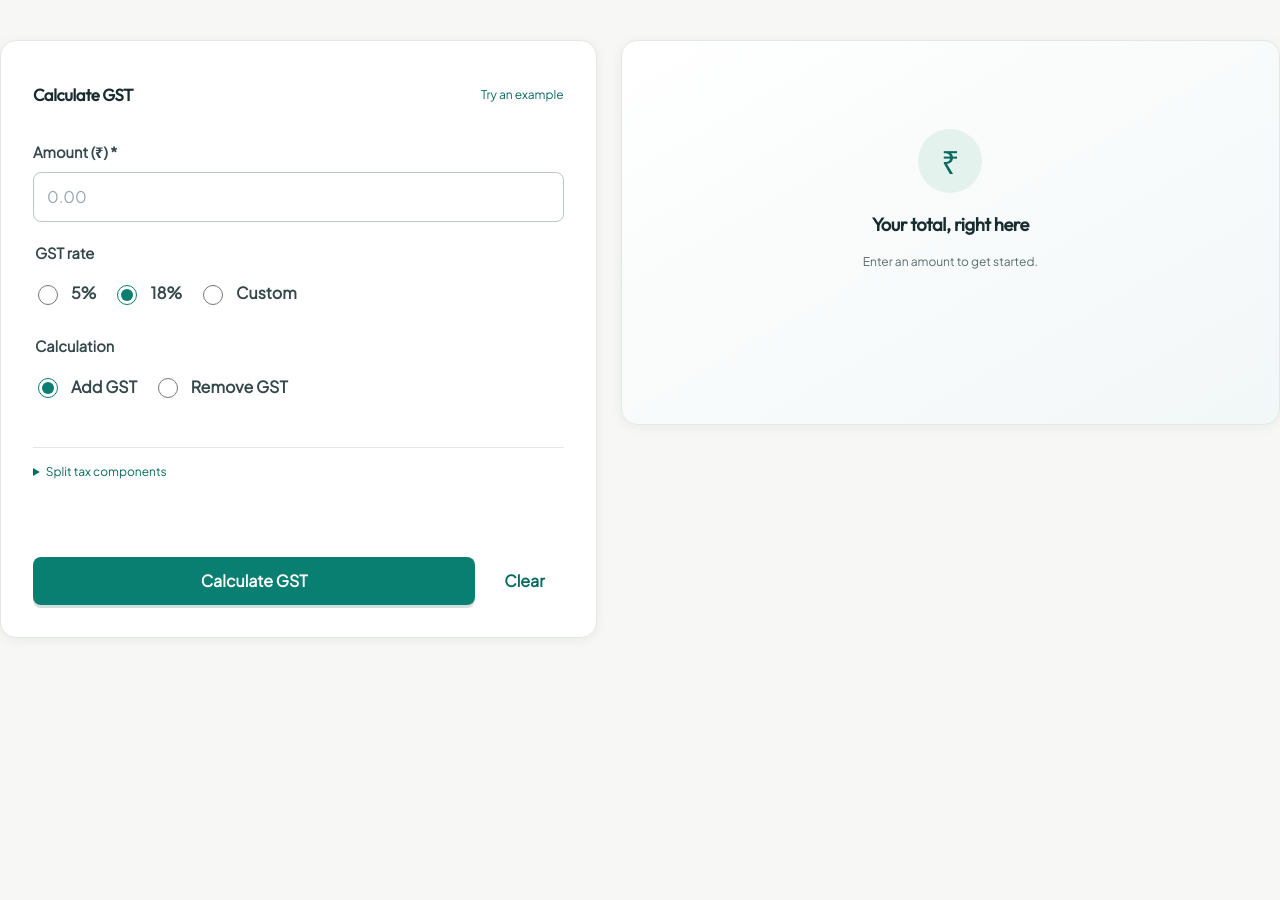
it: focused GST workspace › starts empty and calculates an explicit example without reference sections
The image size is (1280, 900).
Expected: the field labelled "Amount (₹) *" is empty, x1=33 y1=172 x2=564 y2=222
Click the button "Try an example". click: (522, 95)
box: x1=481 y1=73 x2=564 y2=117
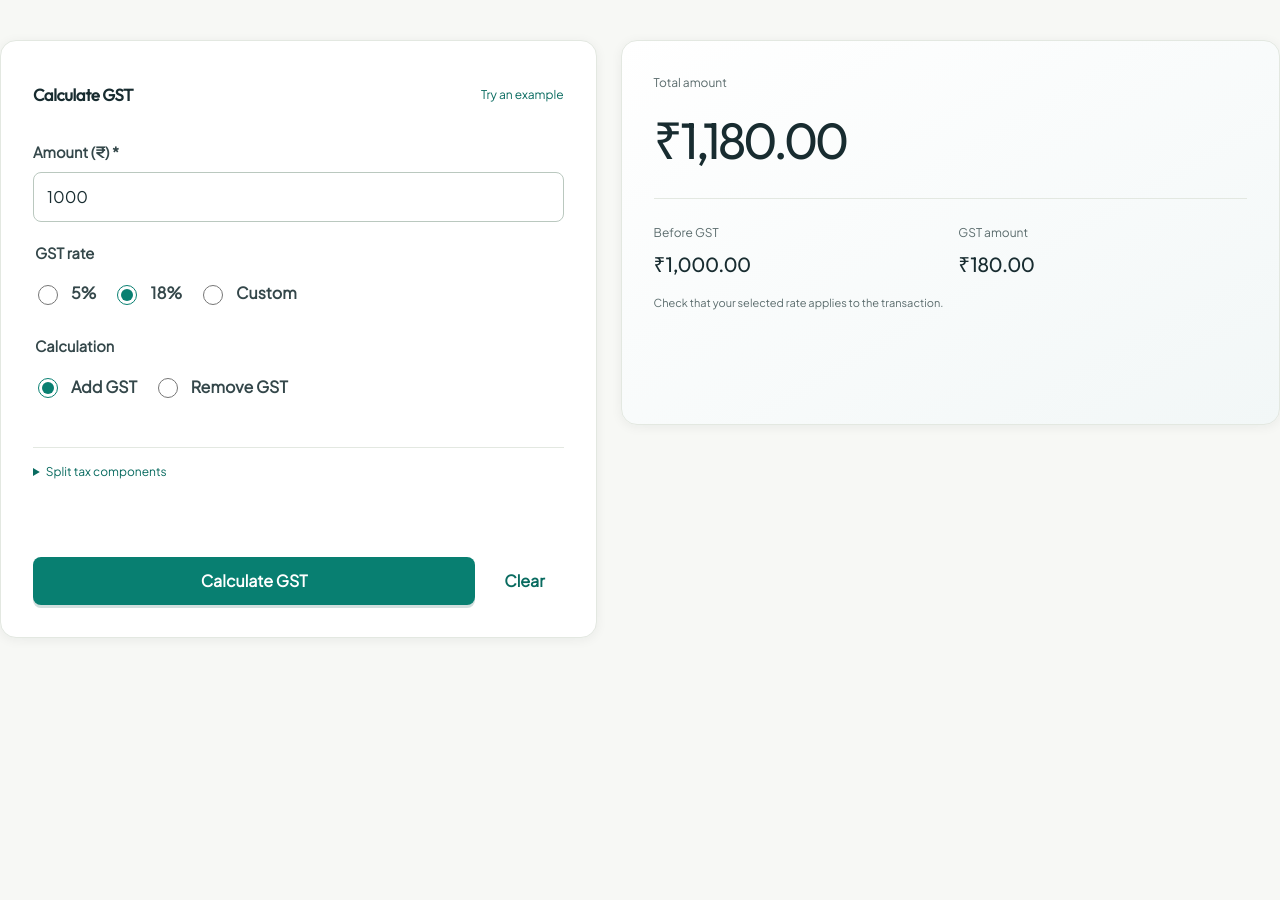
Result: the text "₹1,180.00" is shown at x1=654 y1=108 x2=846 y2=172
Result: the text "₹180.00" is shown at x1=958 y1=251 x2=1035 y2=277
